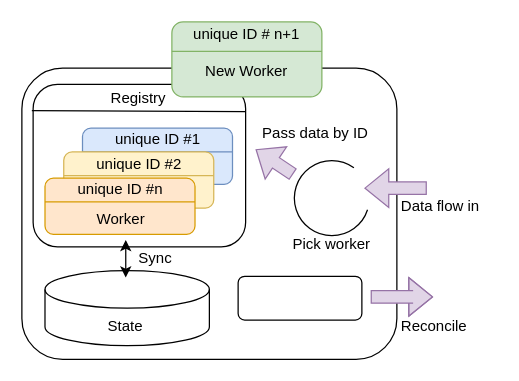
Image size: 519x381. Some labels were removed from this diagram. Here are the shapes that lost their labels. From the top down, the centre of each, then its label:
pixel 331 197: Loop
pixel 299 297: Scheduler
